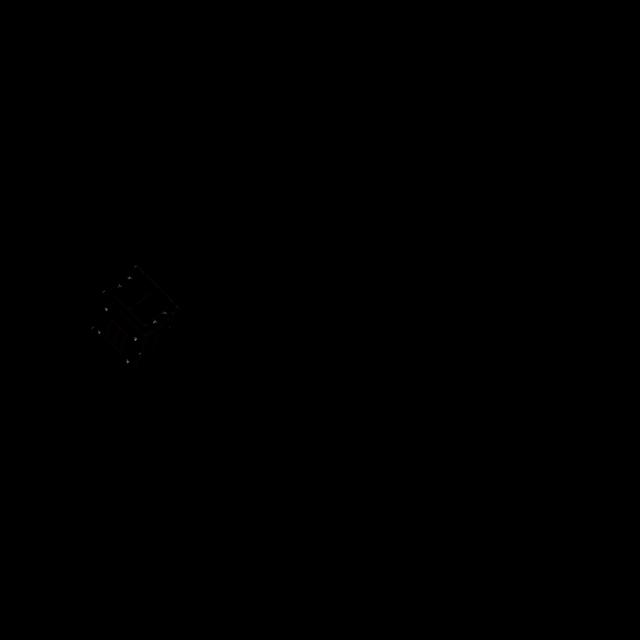medium_debris: (80, 255, 186, 375)
